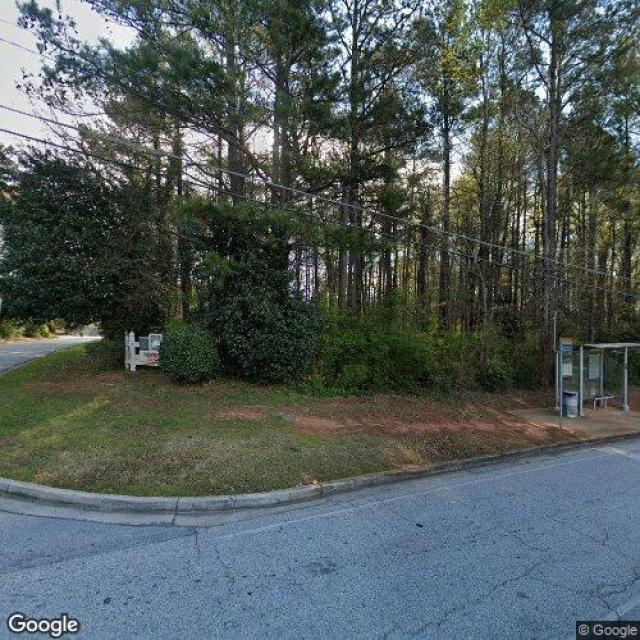seating: (592, 396, 614, 410)
shelter: (558, 343, 640, 419)
trash_can: (562, 390, 580, 420)
